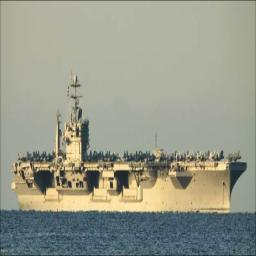Portanaves: (12, 70, 249, 218)
